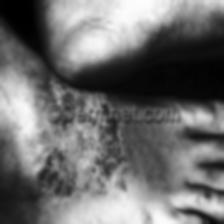Non-Cancerous Skin Condition: (28, 122, 160, 224)
